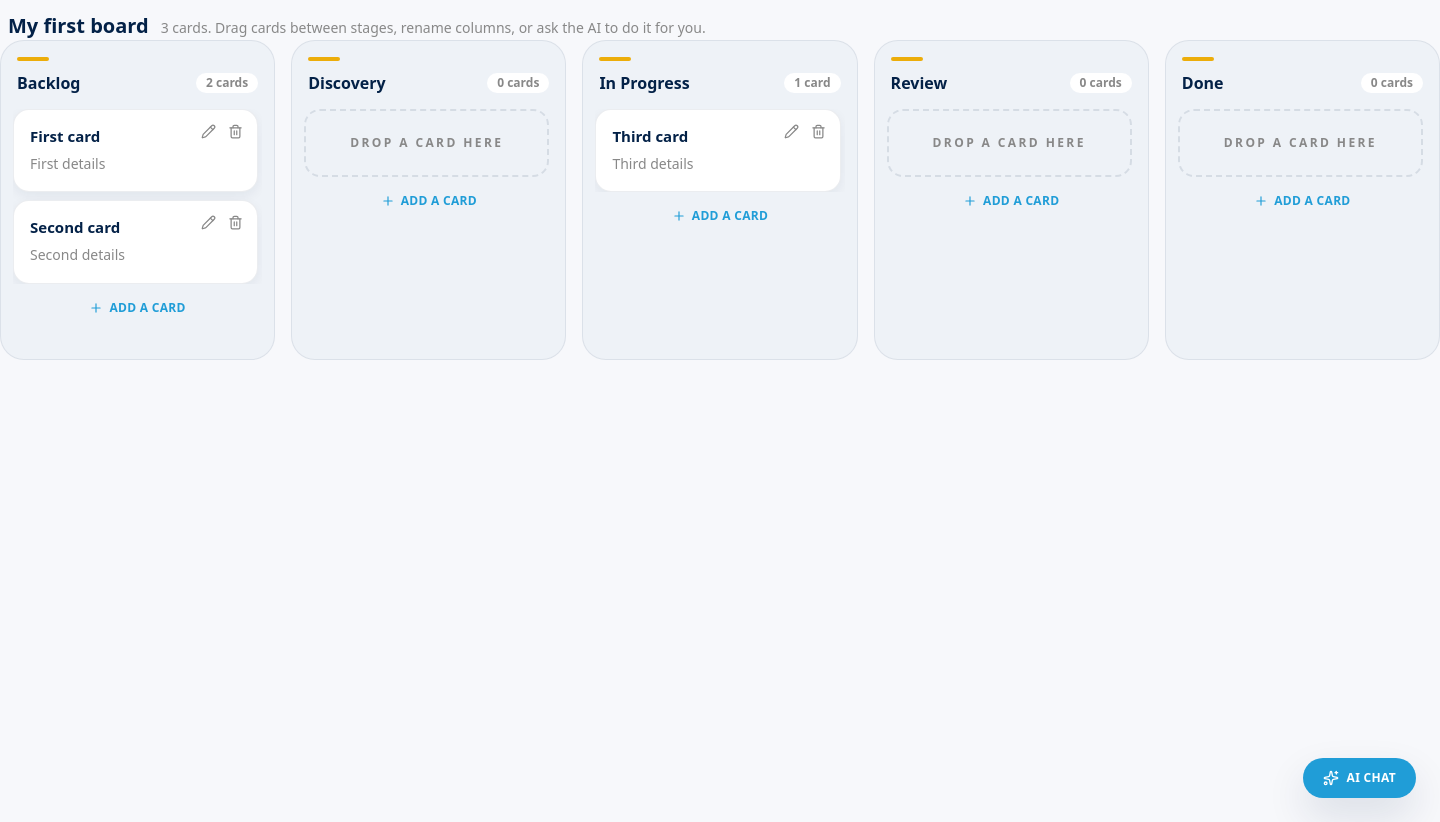
Test: ChatSidebar › shows the user message and then the reply
Step 1. Click the button "AI chat" → point(1359, 778), box [1303,758,1416,798]
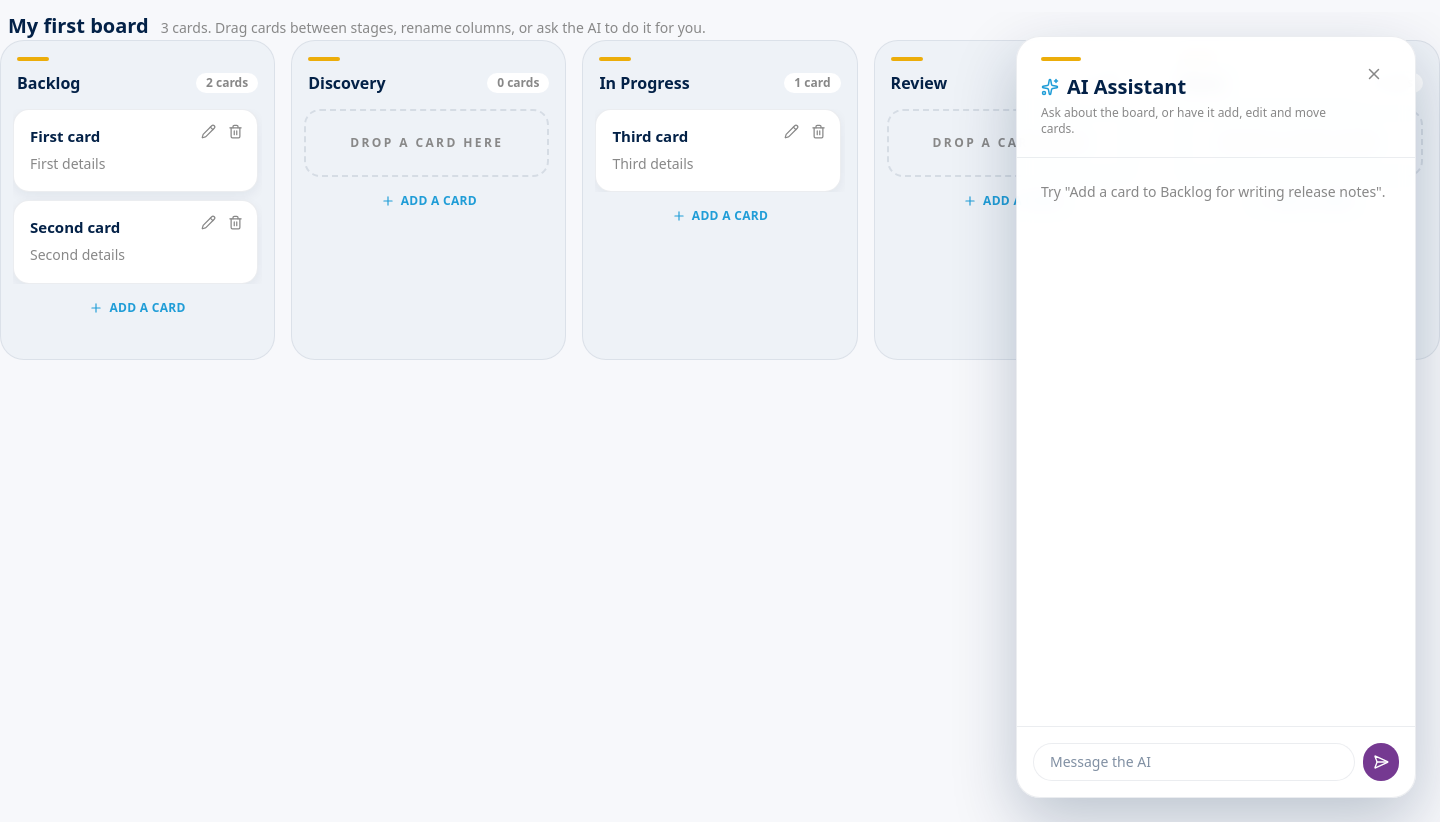
Step 2. Type "How many cards?" into the field named "Chat message" → point(1194, 762), box [1033,743,1355,781]
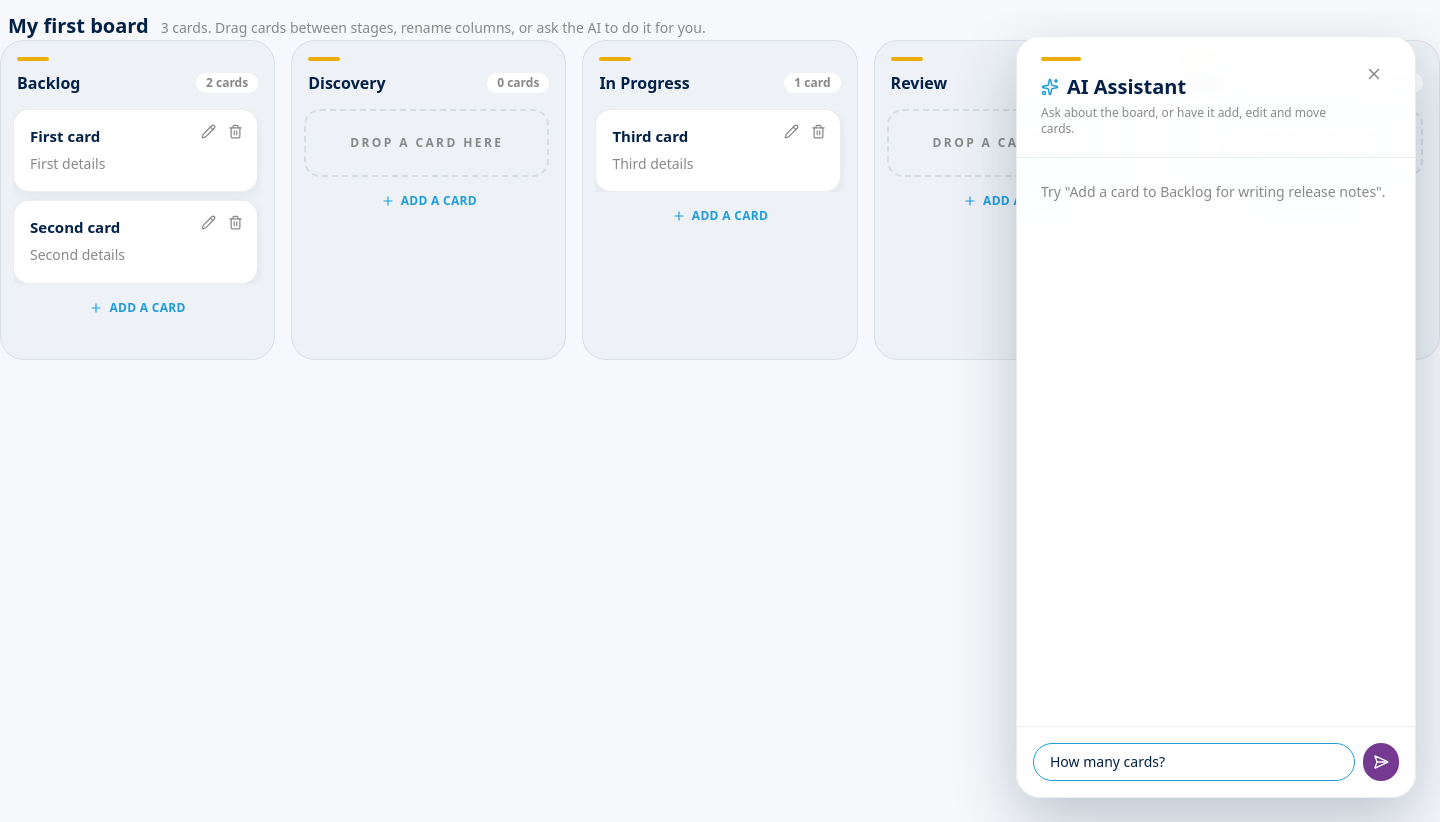
Step 3. Click the button named "Send" → point(1381, 762), box [1363,743,1399,781]
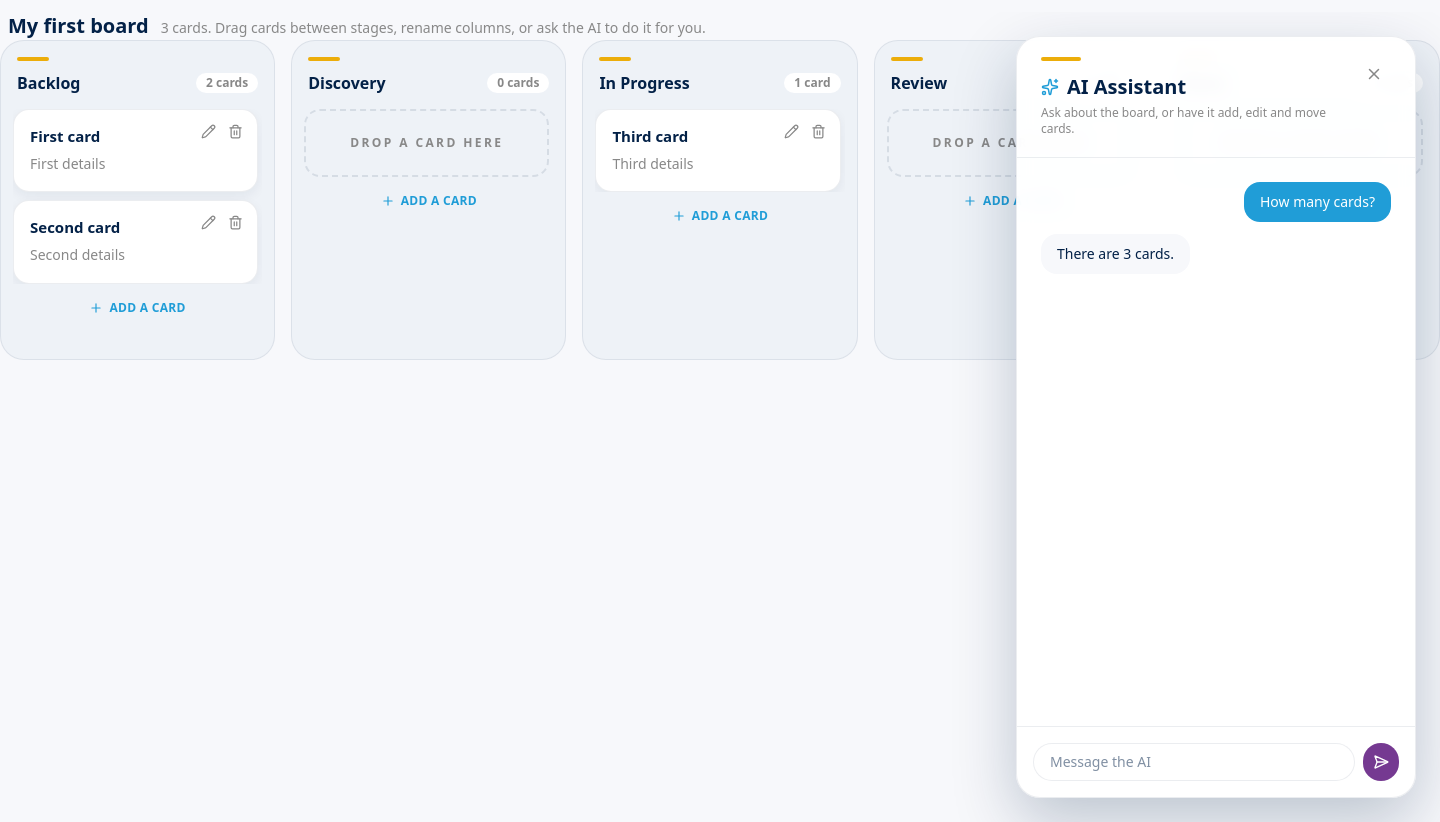
Expected: the text "How many cards?" is shown, [1244,182,1391,222]
Expected: the text "There are 3 cards." is shown, [1041,234,1190,274]
Expected: the field named "Chat message" is empty, [1033,743,1355,781]
